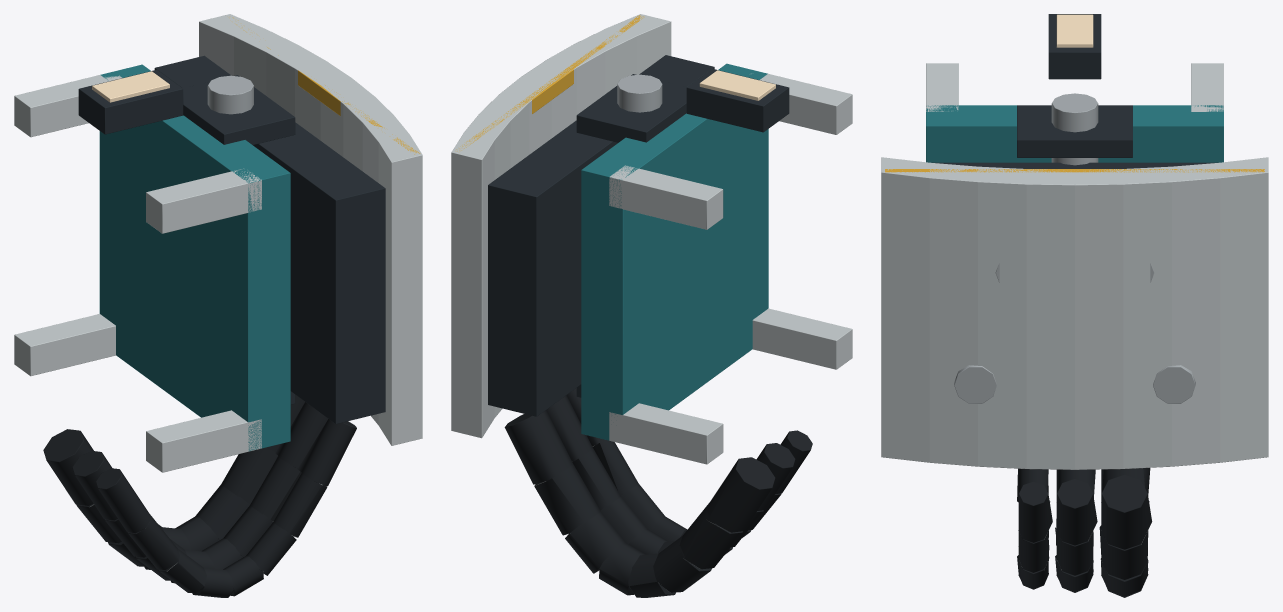
Rendered from hero_umbilical_end.fbx.
3 renders of one model, left to right at view 1: azimuth 30°, elevation 25°; view 2: azimuth 150°, elevation 25°; view 3: azimuth 270°, elevation 25°, orthographic. The views are drawn at different scales.
Visible parts, largest first — view 1: hero_umbilical_end; view 2: hero_umbilical_end; view 3: hero_umbilical_end.
Part boxes in pixels (<box>): hero_umbilical_end: <box>14,14,422,597</box>; hero_umbilical_end: <box>451,14,852,597</box>; hero_umbilical_end: <box>881,14,1268,597</box>.
Bounding box in the file's own units: 1.97 × 3.5 × 2.34.
